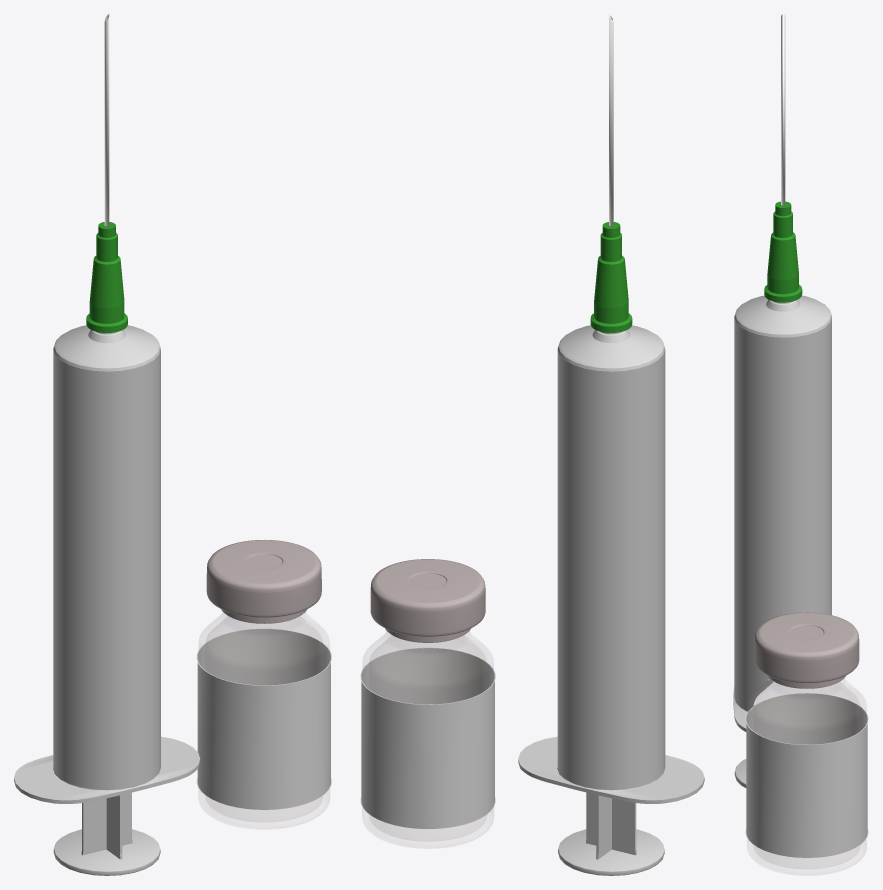
File: vaccine.glb
The picture shows the model from 3 angles, left to right: view 1: azimuth 30°, elevation 25°; view 2: azimuth 150°, elevation 25°; view 3: azimuth 270°, elevation 25°; orthographic projection. The views are drawn at different scales.
Visible parts, largest first — view 1: Syringe, VialOuter, Vial, VialTop, NeddleBottom, Neddle; view 2: Syringe, VialOuter, Vial, VialTop, NeddleBottom, Neddle; view 3: Syringe, VialOuter, Vial, VialTop, NeddleBottom, Neddle.
Part boxes in pixels (x1=…): Syringe: x1=14, y1=325, x2=200, y2=875; VialOuter: x1=196, y1=628, x2=331, y2=810; Vial: x1=199, y1=612, x2=329, y2=828; VialTop: x1=206, y1=539, x2=321, y2=623; NeddleBottom: x1=86, y1=222, x2=127, y2=332; Neddle: x1=104, y1=14, x2=109, y2=226; Syringe: x1=518, y1=325, x2=704, y2=875; VialOuter: x1=360, y1=647, x2=495, y2=829; Vial: x1=362, y1=631, x2=493, y2=848; VialTop: x1=370, y1=559, x2=485, y2=642; NeddleBottom: x1=590, y1=222, x2=632, y2=332; Neddle: x1=609, y1=14, x2=613, y2=226; Syringe: x1=733, y1=295, x2=831, y2=787; VialOuter: x1=745, y1=693, x2=868, y2=858; Vial: x1=747, y1=678, x2=866, y2=875; VialTop: x1=754, y1=612, x2=859, y2=688; NeddleBottom: x1=764, y1=201, x2=802, y2=302; Neddle: x1=781, y1=14, x2=785, y2=205.
Bounding box in the file's own units: 0.0914 × 0.2331 × 0.0374.
